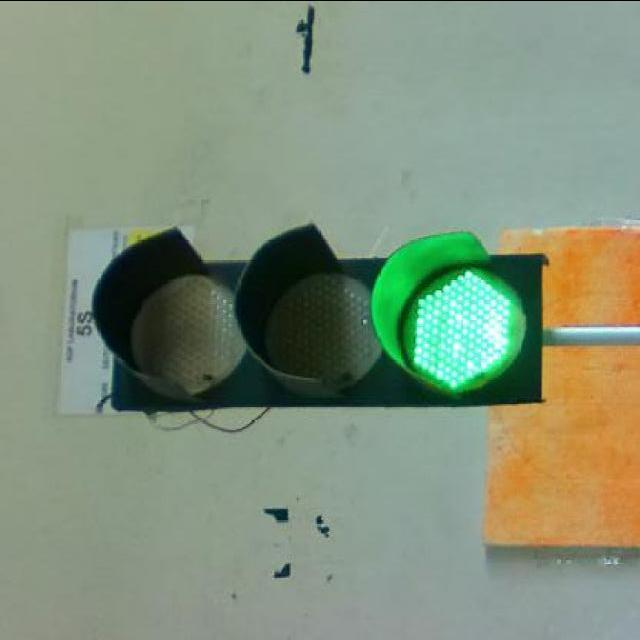green: (402, 254, 536, 395)
